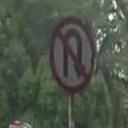NoVirarU: (48, 15, 98, 94)
